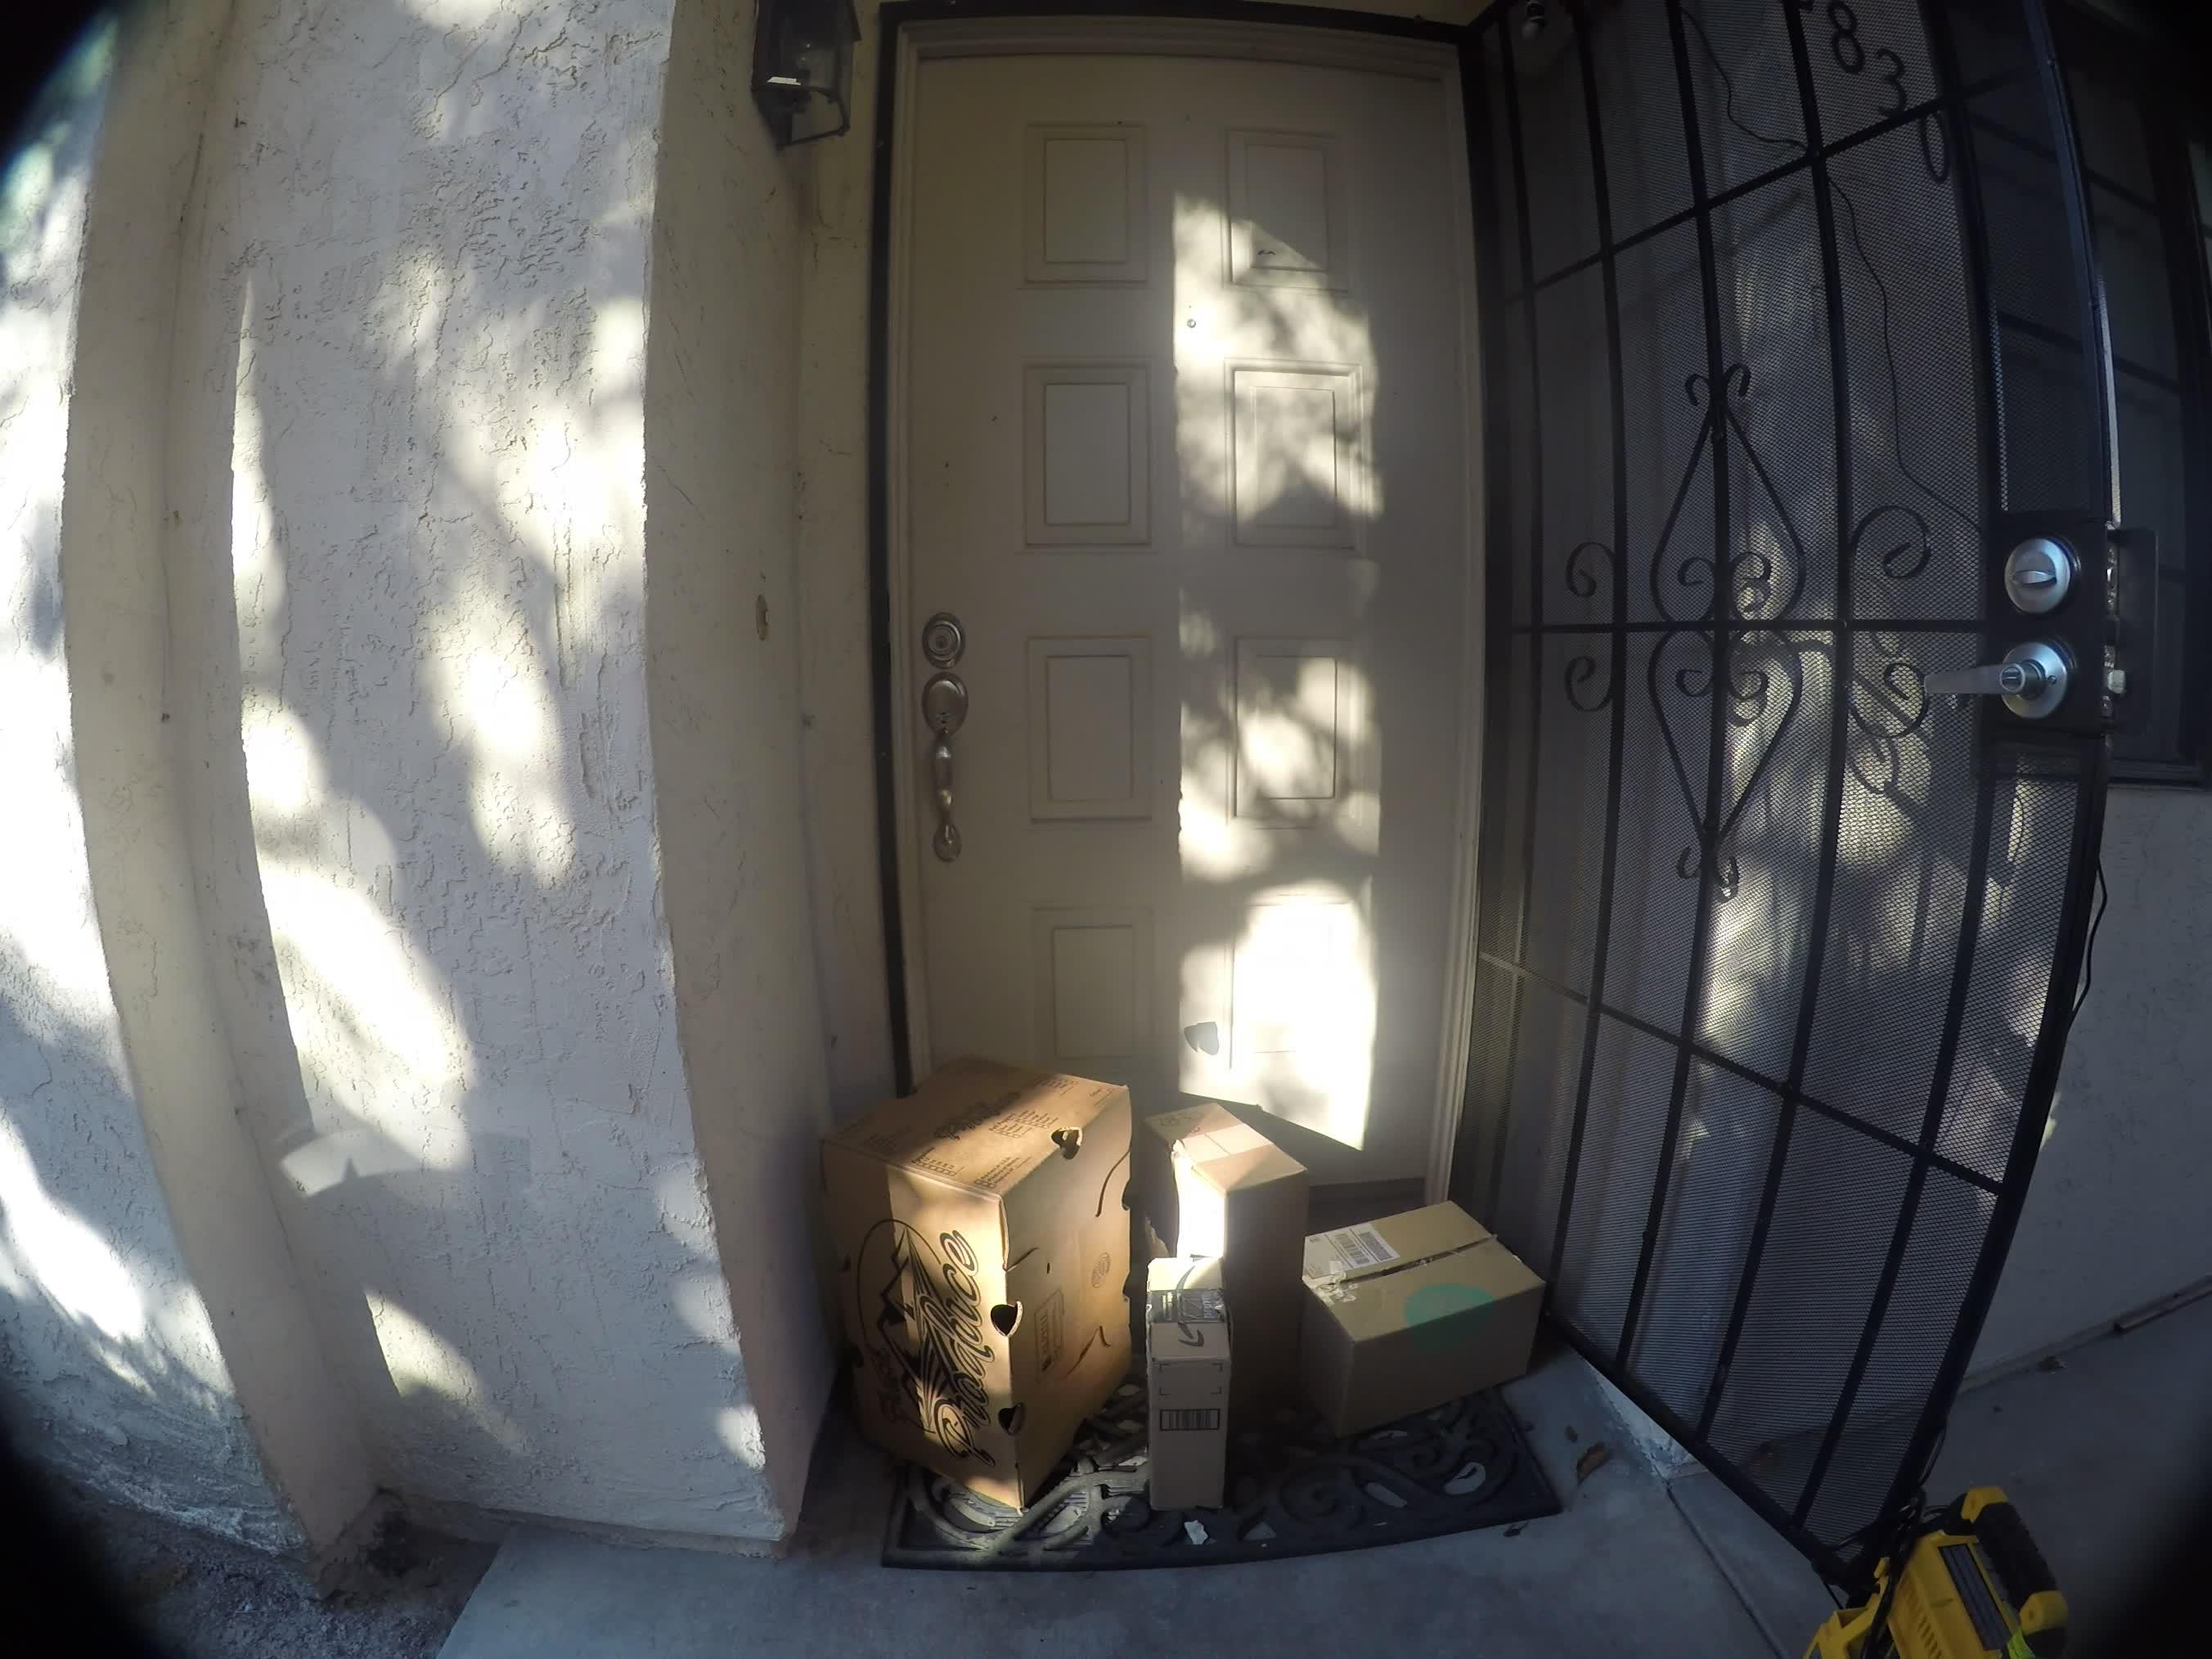box: (834, 1032, 1125, 1486), (1320, 1194, 1552, 1403), (1160, 1068, 1305, 1234), (1151, 1249, 1230, 1506)
